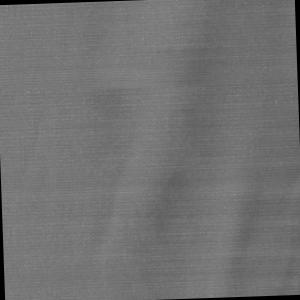Wrinkle: (92, 1, 300, 300)
